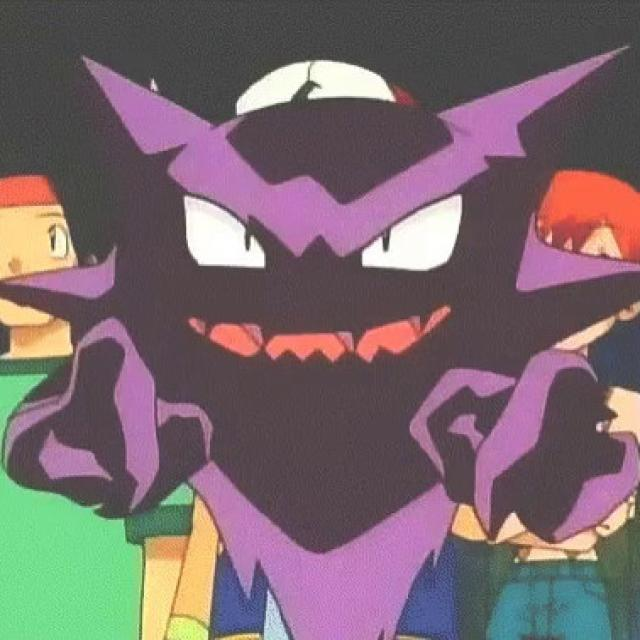Haunter: (56, 59, 634, 536)
